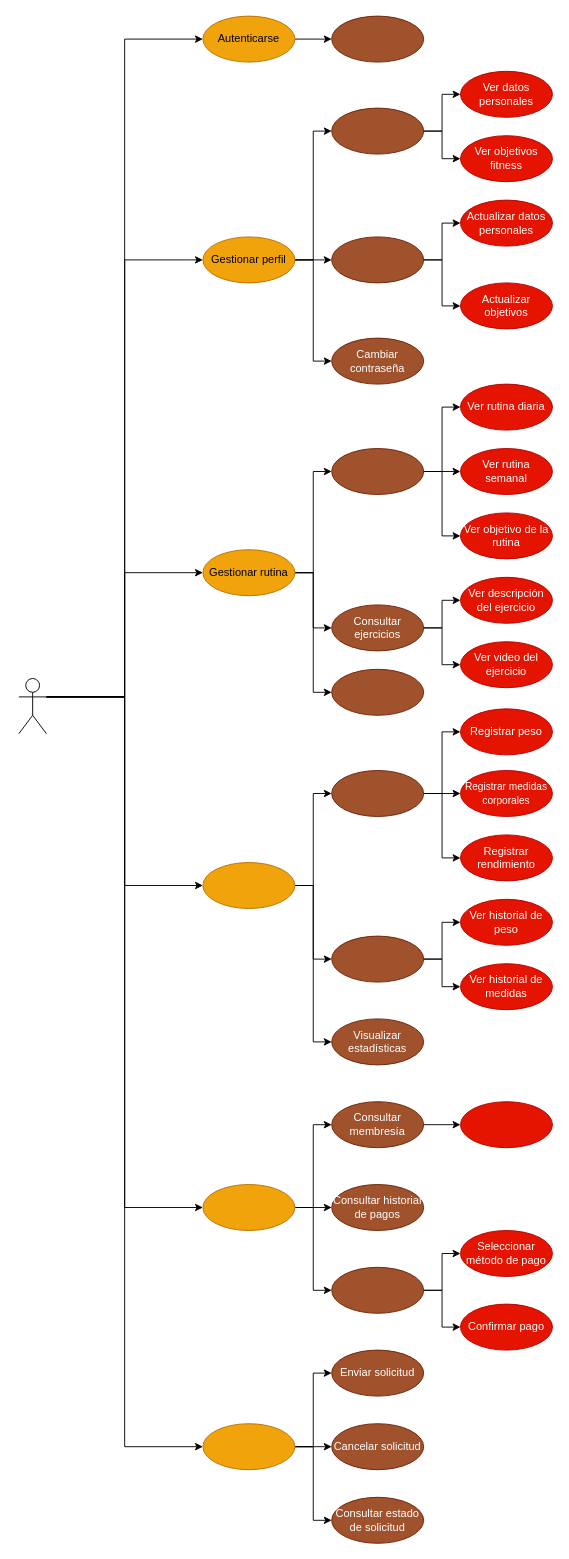
This 569x1559 diagram has some shape labels left out. The box of each missing label's shape, as (x1, y1, x2, y2) in pixels:
Actualizar perfil: (331, 236, 424, 283)
Cliente: (18, 678, 46, 734)
Consultar progreso: (331, 935, 424, 982)
Consultar rutina: (331, 448, 424, 494)
Descargar rutina: (331, 668, 424, 715)
Gestionar pagos: (202, 1184, 295, 1230)
Gestionar progreso físico: (202, 862, 295, 908)
Iniciar sesion: (331, 15, 424, 62)
Realizar pago: (331, 1266, 424, 1313)
Registrar progreso: (331, 770, 424, 816)
Solicitar asistencia de instructor: (202, 1423, 295, 1470)
Ver estado de membresía: (460, 1101, 552, 1148)
Ver perfil: (331, 107, 424, 154)
